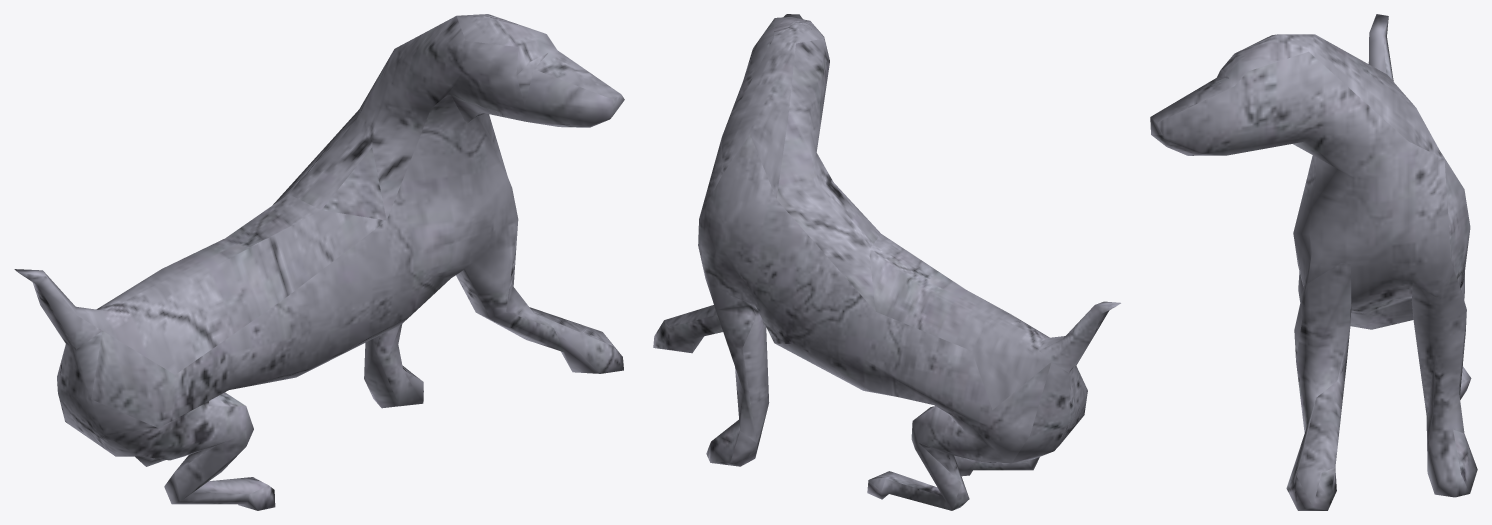
Rendered from Dog_Statue_4.glb.
3 renders of one model, left to right at view 1: azimuth 30°, elevation 25°; view 2: azimuth 150°, elevation 25°; view 3: azimuth 270°, elevation 25°, orthographic. The views are drawn at different scales.
Parts seen in each view (by area): view 1: Dog_Statue_4; view 2: Dog_Statue_4; view 3: Dog_Statue_4.
Boxes of the visible parts, box(x1,y1,x2,y2) form: Dog_Statue_4: box(14, 14, 624, 510); Dog_Statue_4: box(653, 14, 1120, 510); Dog_Statue_4: box(1150, 14, 1477, 510).
Bounding box in the file's own units: 0.2676 × 0.2015 × 0.1291.
1 material, 1 textured.
